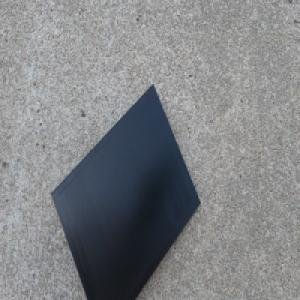PlasticPart: (49, 80, 201, 300)
